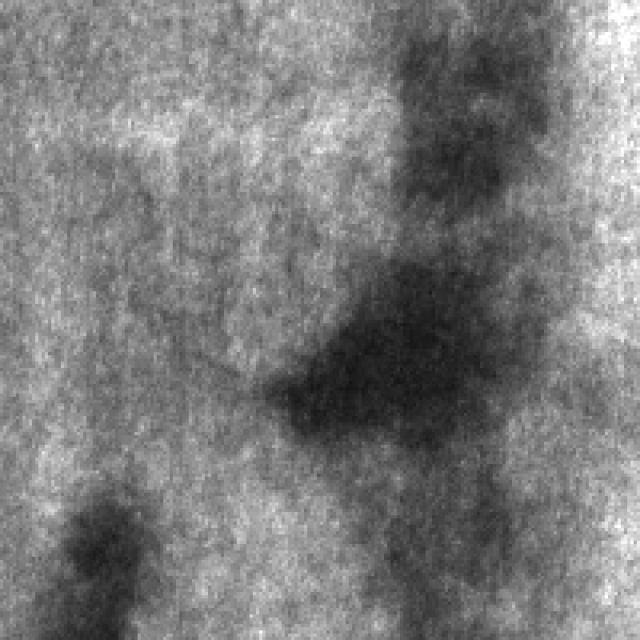patches: (282, 246, 528, 528), (396, 42, 522, 198), (45, 489, 144, 636)
